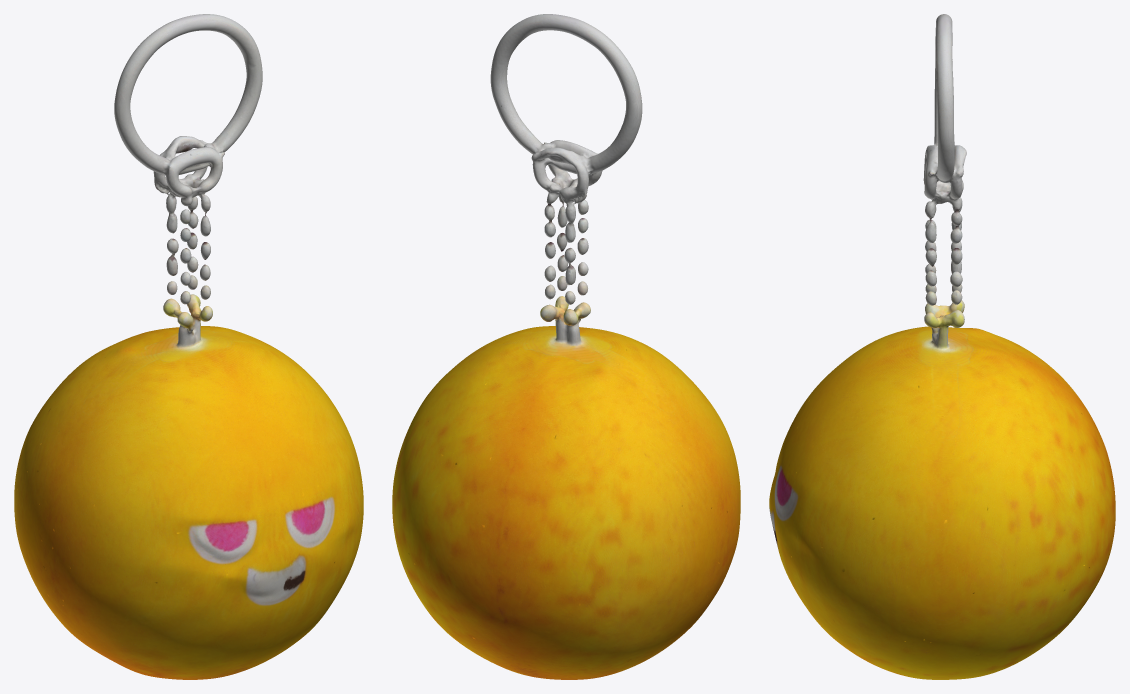
File: hanging-ball-yellow.glb
3 views of the same model, side by side, from view 1: azimuth 30°, elevation 25°; view 2: azimuth 150°, elevation 25°; view 3: azimuth 270°, elevation 25° (orthographic).
Size of the model in its own units: 0.9708 by 2 by 0.9797.
1 material, 1 textured.
